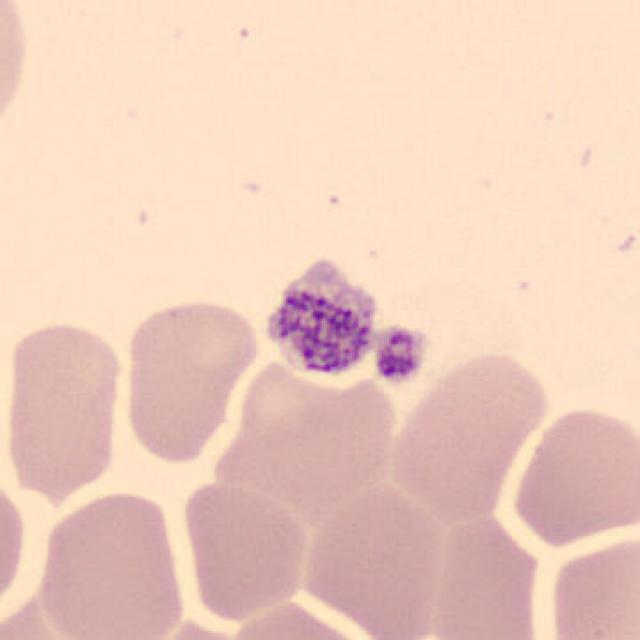Platelets: (254, 248, 396, 392), (372, 325, 430, 386)
RBC: (386, 345, 553, 522), (117, 293, 263, 467), (297, 478, 450, 638), (32, 487, 190, 638), (0, 316, 128, 502), (178, 476, 313, 622), (506, 402, 636, 548), (542, 529, 640, 640), (218, 597, 375, 640), (0, 589, 100, 640), (0, 0, 34, 146), (103, 613, 268, 640), (0, 471, 30, 619)
